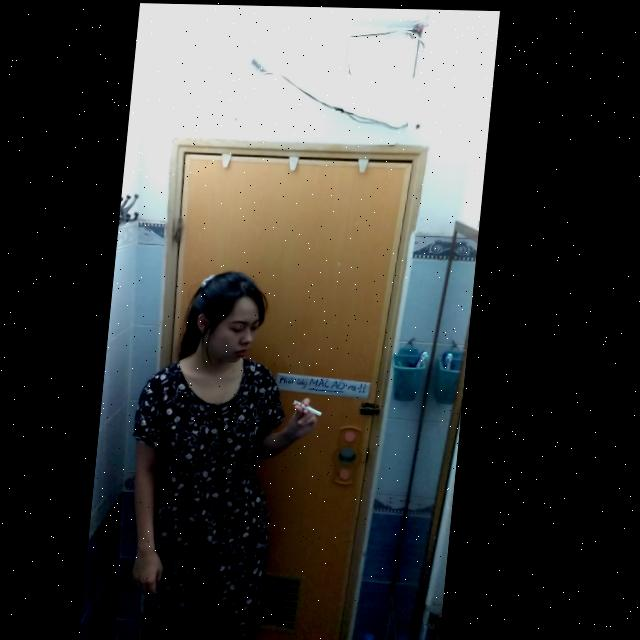cigarette: (300, 398, 331, 414)
